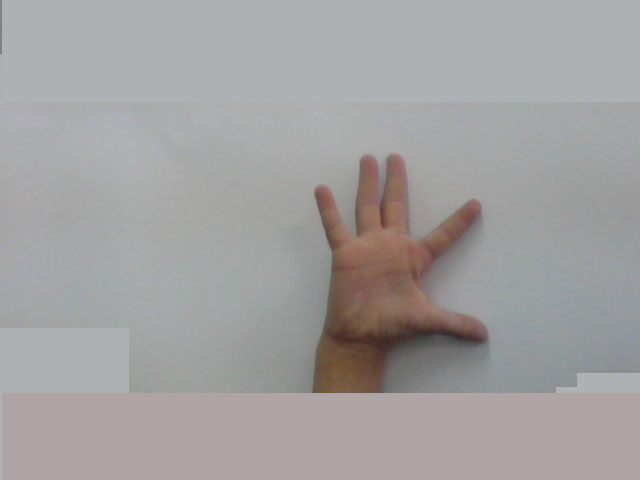hand: (307, 147, 502, 349)
